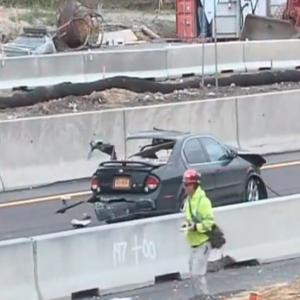red: (182, 169, 200, 197)
